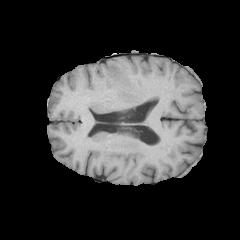glioma: (104, 62, 134, 102)
